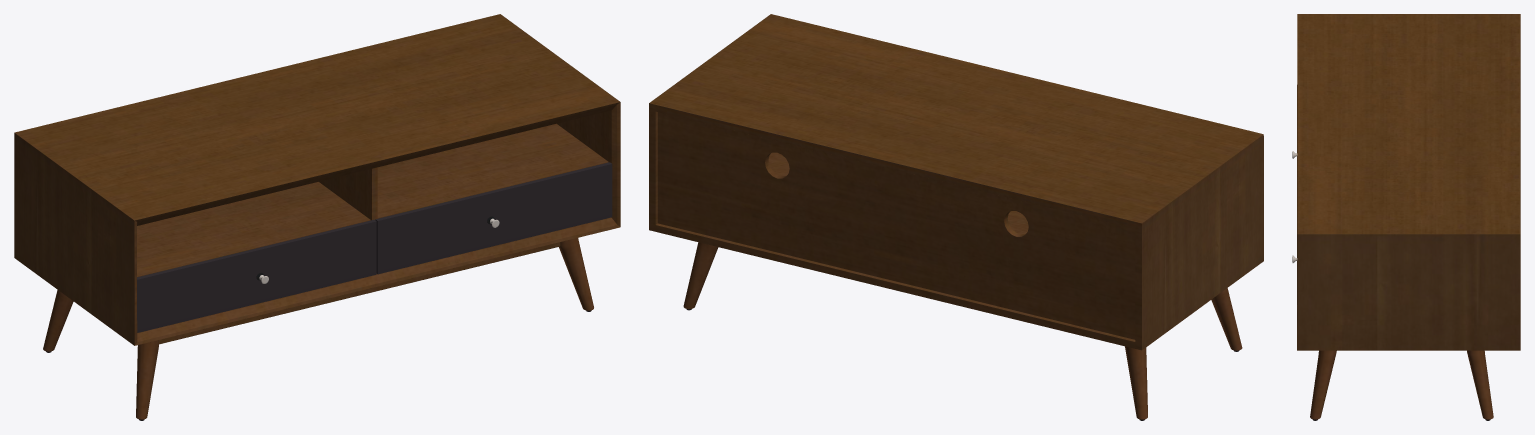
Rendered from table_B07B7DPKRJ.glb.
3 renders of one model, left to right at view 1: azimuth 30°, elevation 25°; view 2: azimuth 150°, elevation 25°; view 3: azimuth 270°, elevation 25°, orthographic. The views are drawn at different scales.
Visible parts, largest first — view 1: RootNode; view 2: RootNode; view 3: RootNode.
Part boxes in pixels (x1,y1,x2,y2): RootNode: (14, 14, 620, 420); RootNode: (649, 14, 1263, 420); RootNode: (1292, 14, 1520, 420).
Size of the model in its own units: 1.12 by 0.4641 by 0.4895.
1 material, 1 textured.
